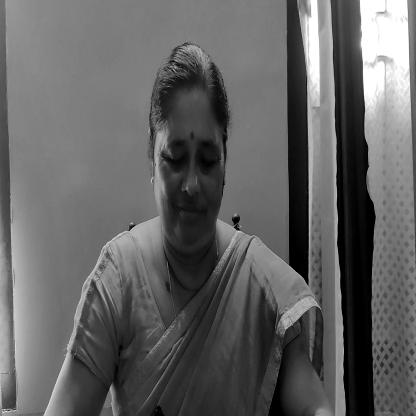Normal: (149, 44, 226, 243)
